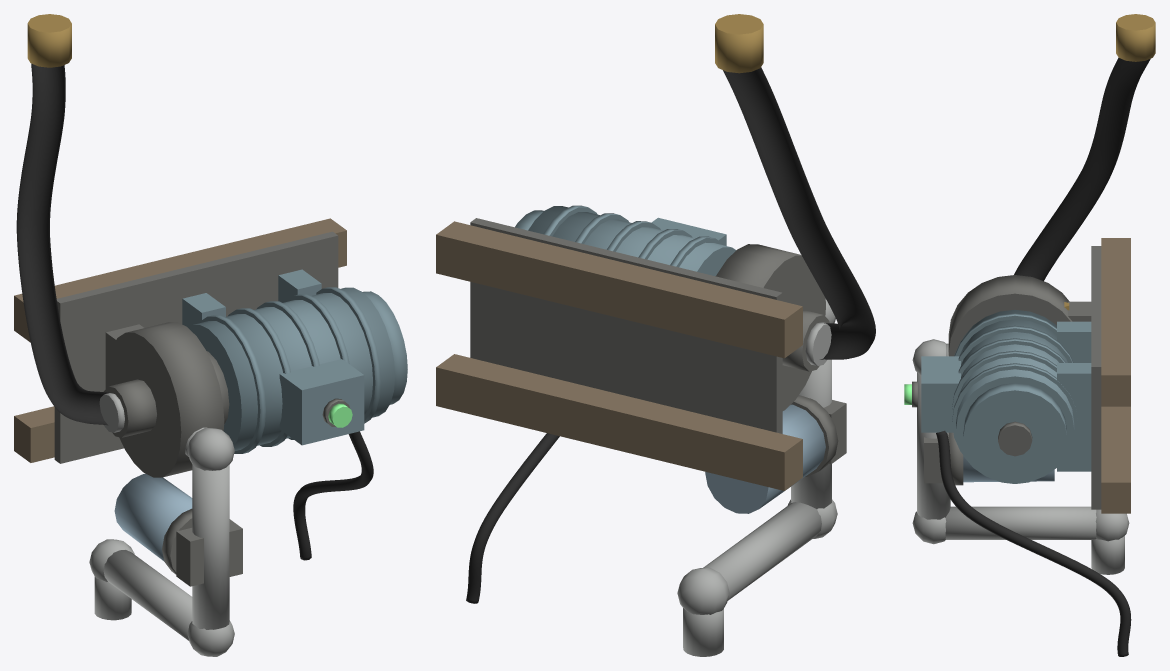
Rendered from pump_filter_on.obj.
The picture shows the model from 3 angles, left to right: view 1: azimuth 30°, elevation 25°; view 2: azimuth 150°, elevation 25°; view 3: azimuth 270°, elevation 25°; orthographic projection. The views are drawn at different scales.
Visible parts, largest first — view 1: base_plate, motor, suction_hose, volute, discharge_run, terminal_box, skid-0.12, filter_bowl, discharge_drop, power_cord, foot_valve, filter_head (+16 smaller); view 2: base_plate, skid-0.12, skid0.12, suction_hose, volute, discharge_drop, motor, filter_bowl, foot_valve, power_cord, discharge_run, discharge_elbow3 (+6 smaller); view 3: motor_bell, suction_hose, motor, skid-0.12, discharge_drop, volute, power_cord, skid0.12, base_plate, terminal_box, motor_foot0.35, discharge_run (+16 smaller).
Part boxes in pixels (left/top/right/bottom): base_plate: left=54, top=231, right=338, bottom=463; motor: left=188, top=287, right=395, bottom=450; suction_hose: left=16, top=63, right=108, bottom=425; volute: left=106, top=322, right=224, bottom=477; discharge_run: left=192, top=464, right=229, bottom=629; terminal_box: left=279, top=359, right=364, bottom=445; skid-0.12: left=14, top=218, right=346, bottom=342; filter_bowl: left=114, top=474, right=192, bottom=561; discharge_drop: left=103, top=550, right=192, bottom=640; power_cord: left=293, top=431, right=373, bottom=560; foot_valve: left=27, top=14, right=71, bottom=67; filter_head: left=176, top=519, right=242, bottom=586; base_plate: left=470, top=218, right=782, bottom=433; skid-0.12: left=436, top=221, right=802, bottom=358; skid0.12: left=436, top=354, right=802, bottom=490; suction_hose: left=723, top=67, right=875, bottom=359; volute: left=716, top=244, right=825, bottom=410; discharge_drop: left=703, top=502, right=821, bottom=600; motor: left=528, top=206, right=736, bottom=275; filter_bowl: left=705, top=404, right=825, bottom=513; foot_valve: left=715, top=14, right=763, bottom=73; power_cord: left=466, top=433, right=559, bottom=603; discharge_run: left=791, top=359, right=831, bottom=508; discharge_elbow3: left=677, top=567, right=729, bottom=614; motor_bell: left=963, top=383, right=1066, bottom=483; suction_hose: left=1014, top=57, right=1150, bottom=281; motor: left=956, top=309, right=1074, bottom=477; skid-0.12: left=1101, top=238, right=1130, bottom=406; discharge_drop: left=945, top=506, right=1096, bottom=539; volute: left=948, top=275, right=1072, bottom=356; power_cord: left=936, top=430, right=1131, bottom=656; skid0.12: left=1101, top=406, right=1130, bottom=513; base_plate: left=1091, top=246, right=1101, bottom=509; terminal_box: left=921, top=356, right=960, bottom=432; motor_foot0.35: left=1057, top=363, right=1091, bottom=471; discharge_run: left=917, top=372, right=950, bottom=519.
Size of the model in its own units: 0.7144 by 1.18 by 0.5095.
9 materials, 9 textured.
